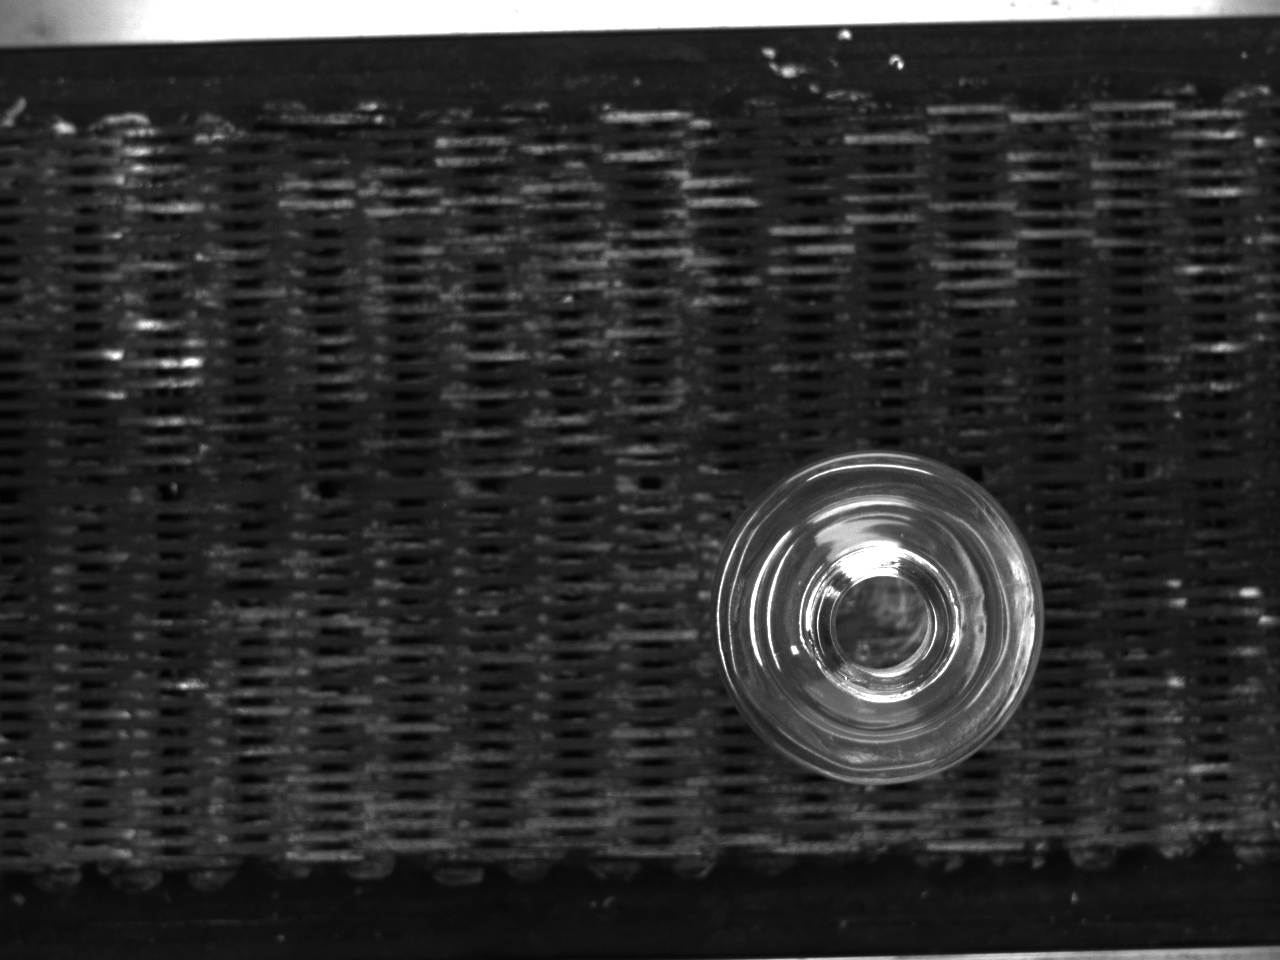bottleneck: (808, 544, 963, 703)
